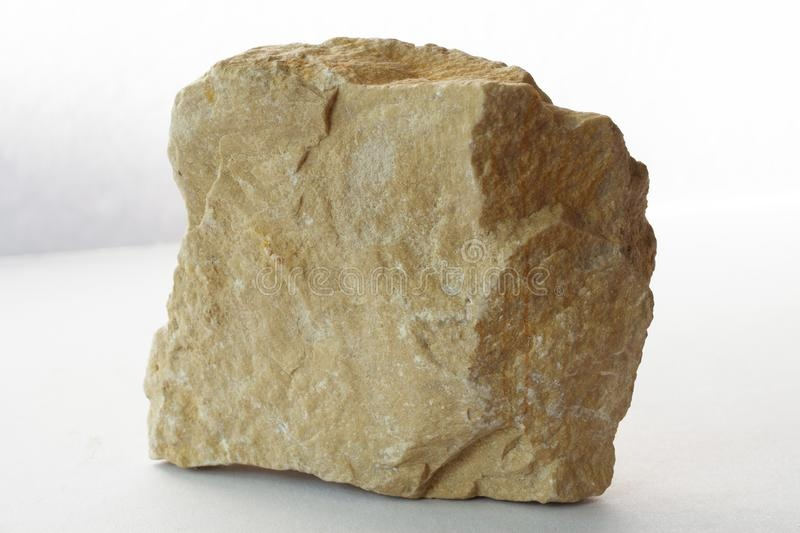obstacle: (145, 38, 654, 502)
